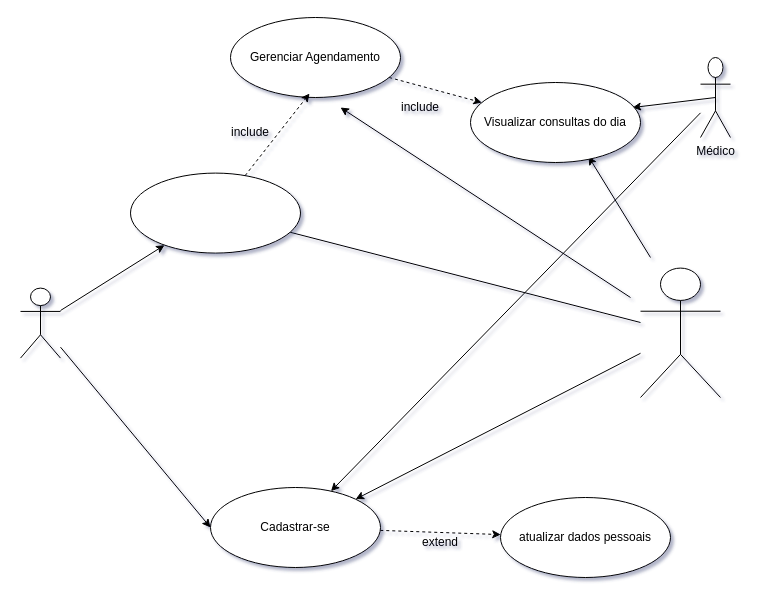
This 758x601 diagram has some shape labels left out. The shapes that lost their labels are listed below. From the top down, each one's box as (x1, y1, x2, y2) in pixels, then its label:
(130, 172, 300, 253): Agendar Consulta
(20, 287, 60, 358): Paciente
(640, 267, 720, 398): Atendente
